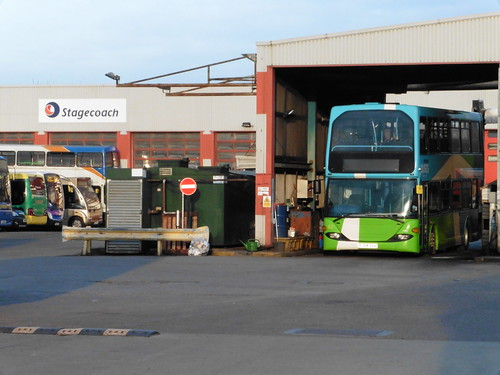building: (1, 71, 268, 264)
bus: (325, 110, 489, 252)
sign: (177, 177, 197, 197)
sky: (3, 1, 250, 80)
street: (6, 252, 500, 375)
